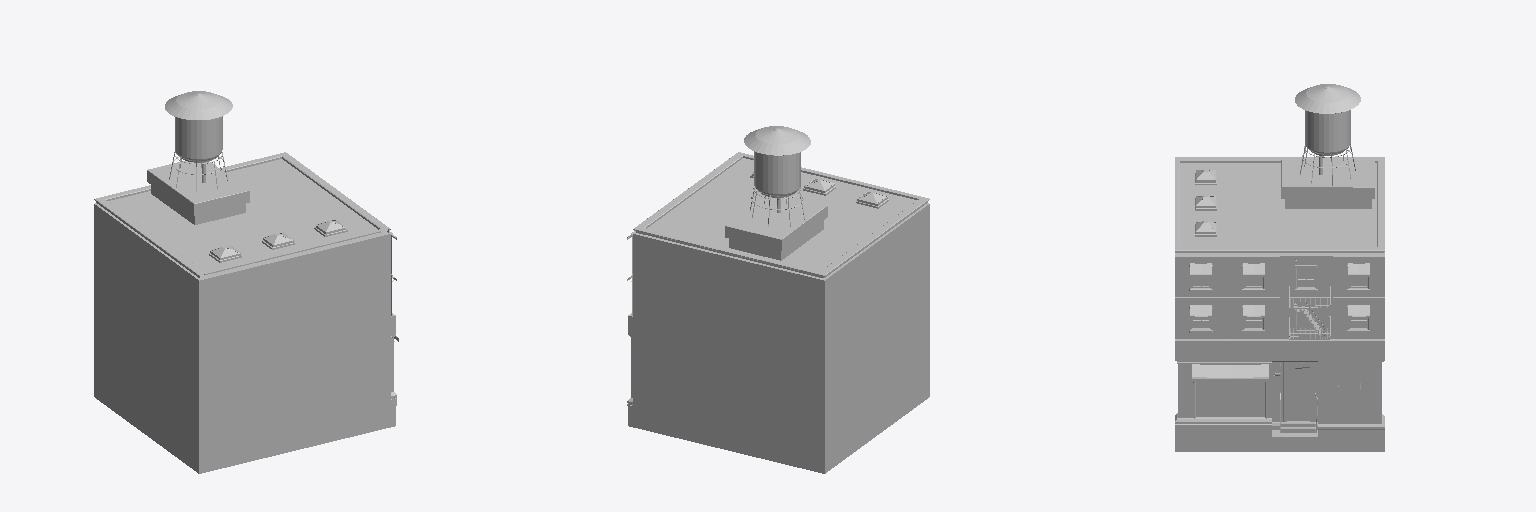
Rendered from FiveA3.obj.
The picture shows the model from 3 angles: view 1: azimuth 30°, elevation 25°; view 2: azimuth 150°, elevation 25°; view 3: azimuth 270°, elevation 25°; orthographic projection.
Visible parts, largest first — view 1: building sides __Comp9__2, building top __Comp9__5, building sides __Comp9__3; view 2: building front __Comp9__0, building top __Comp9__5, building sides __Comp9__3; view 3: building top __Comp9__5, building facade __Comp9__1 __Subdiv10__3 Allfloors __Repeat9__0 , building facade __Comp9__1 __Subdiv10__3 Allfloors floors window, building facade __Comp9__1 __Subdiv10__1 downfloor __Subdiv1__0 , building facade __Comp9__1 __Subdiv10__1 downfloor __Subdiv1__2 , building facade __Comp9__1 __Subdiv1__0 downfloorwindow __Subdiv, building facade __Comp9__1 __Subdiv10__1 downfloor __Subdiv1__1 , building facade __Comp9__1 __Subdiv1__2 downfloorrest __Subdiv10, building facade __Comp9__1 __Subdiv10__3 Allfloors floors __Repe, building facade __Comp9__1 __Subdiv1__1 door __Subdiv10__2 band, building facade __Comp9__1 __Subdiv1__1 door __Subdiv10__0 socal.
Part boxes in pixels (x1,y1,x2,y2): building sides __Comp9__2: (199,234,390,473); building top __Comp9__5: (94,91,390,280); building sides __Comp9__3: (94,204,198,473); building front __Comp9__0: (633,234,824,473); building top __Comp9__5: (633,126,929,280); building sides __Comp9__3: (825,204,929,473); building top __Comp9__5: (1175,84,1384,253); building facade __Comp9__1 __Subdiv10__3 Allfloors __Repeat9__0 : (1175,298,1384,339); building facade __Comp9__1 __Subdiv10__3 Allfloors floors window: (1175,254,1384,297); building facade __Comp9__1 __Subdiv10__1 downfloor __Subdiv1__0 : (1175,361,1271,431); building facade __Comp9__1 __Subdiv10__1 downfloor __Subdiv1__2 : (1318,361,1384,431); building facade __Comp9__1 __Subdiv1__0 downfloorwindow __Subdiv: (1175,340,1271,451); building facade __Comp9__1 __Subdiv10__1 downfloor __Subdiv1__1 : (1272,361,1317,436); building facade __Comp9__1 __Subdiv1__2 downfloorrest __Subdiv10: (1318,339,1384,451); building facade __Comp9__1 __Subdiv10__3 Allfloors floors __Repe: (1280,253,1332,313); building facade __Comp9__1 __Subdiv1__1 door __Subdiv10__2 band: (1272,339,1317,360); building facade __Comp9__1 __Subdiv1__1 door __Subdiv10__0 socal: (1272,437,1317,451).
Bounding box in the file's own units: 3598 × 4816 × 2998.